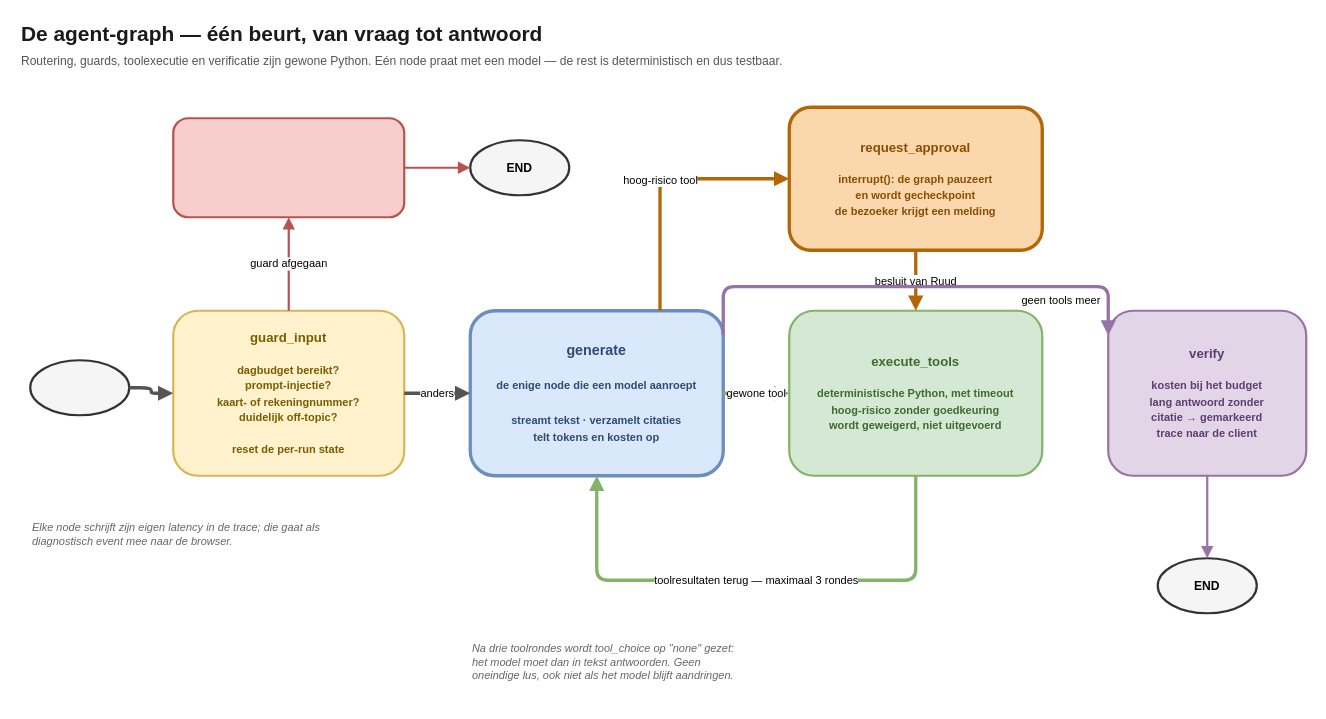
Image size: 1326x719. Some labels were removed from this diagram. Here are the shapes that lost their labels. From the top down, the centre of each, then its label:
At (288,167): "refuse beleefde weigering, zonder één token uit te geven".
At (79,387): "START".
